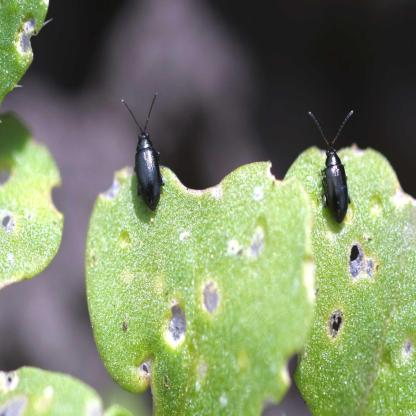beetle: (306, 108, 360, 223), (120, 99, 166, 209)
